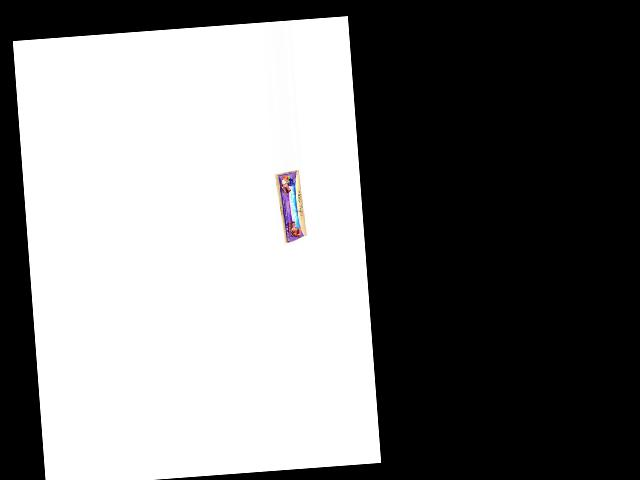chocolate: (274, 170, 304, 247)
